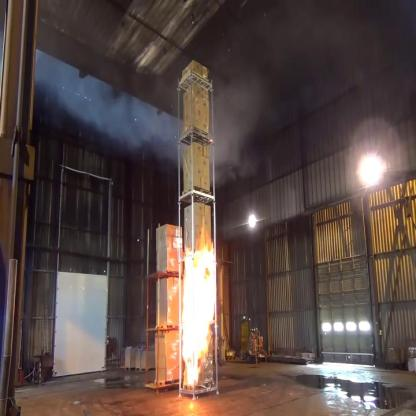fire: (178, 241, 220, 389)
